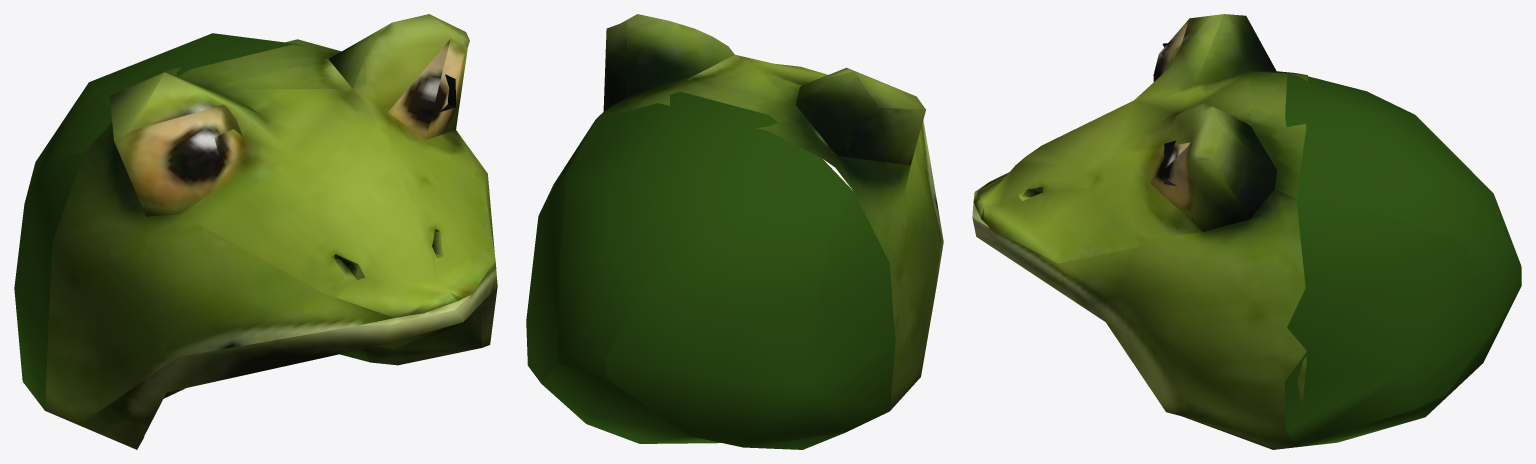
File: frog.glb
3 renders of one model, left to right at view 1: azimuth 30°, elevation 25°; view 2: azimuth 150°, elevation 25°; view 3: azimuth 270°, elevation 25°, orthographic. The views are drawn at different scales.
Parts seen in each view (by area): view 1: geometry_0; view 2: geometry_0; view 3: geometry_0.
Part boxes in pixels (x1,y1,x2,y2): geometry_0: [14, 14, 497, 449]; geometry_0: [526, 14, 943, 449]; geometry_0: [972, 14, 1521, 449].
Bounding box in the file's own units: 0.4532 × 0.4144 × 0.628.
2 materials, 1 textured.
